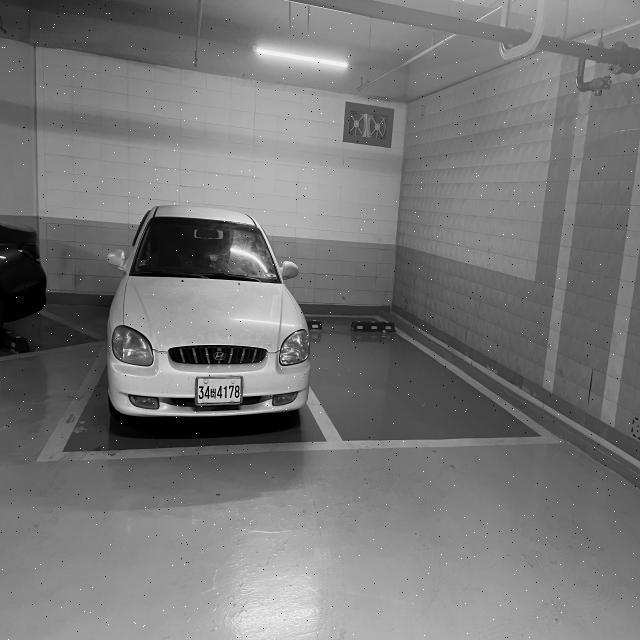empty: (320, 304, 464, 460)
occupied: (83, 190, 323, 461)
